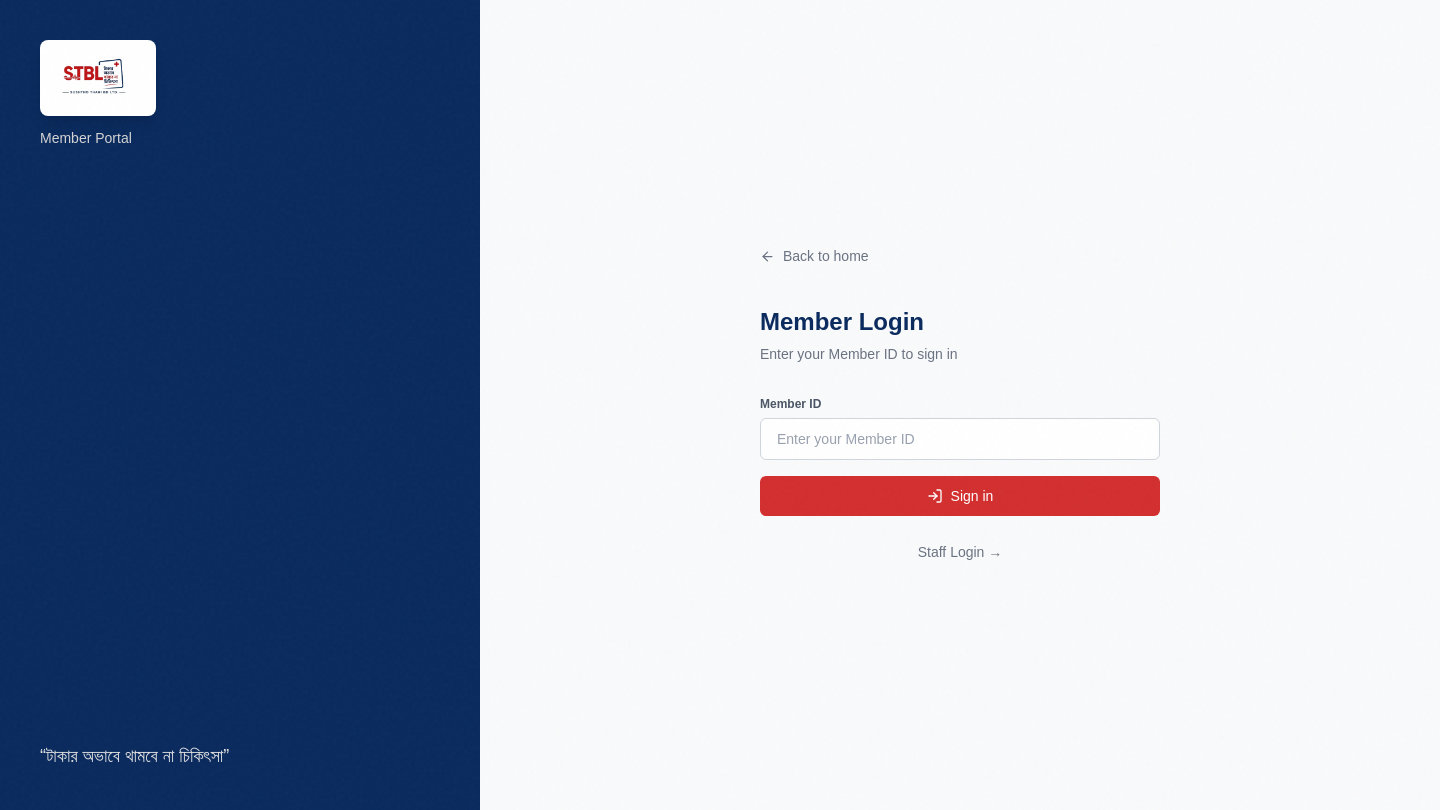
Test: LoginPage › switches to the staff login form
Click the button "Staff Login →": [960, 552] box 918,542 -> 1002,562
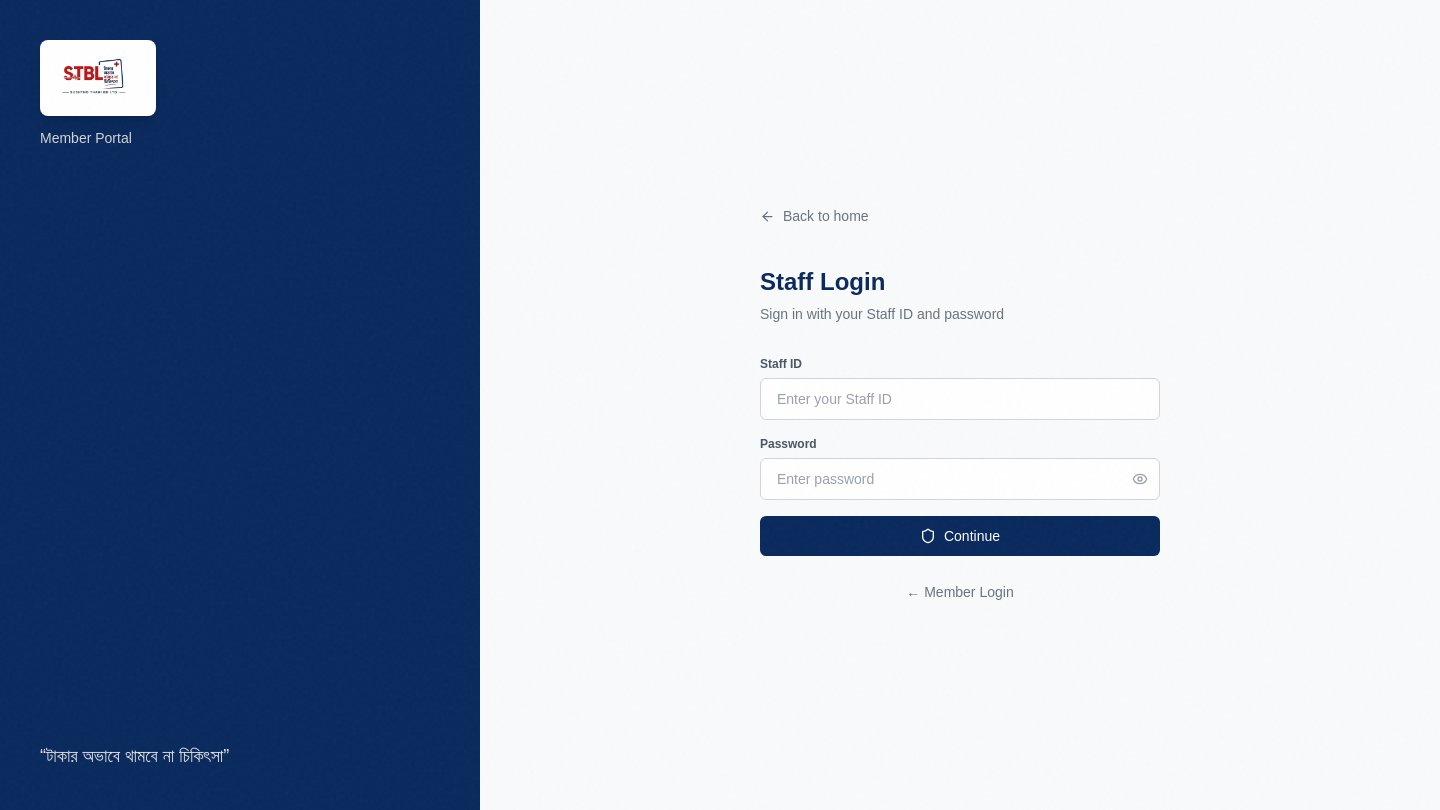
expect the heading "Staff Login" is shown: met, box 760,268 -> 885,295
expect the field with placeholder "Enter your Staff ID" is shown: met, box 760,378 -> 1160,420
